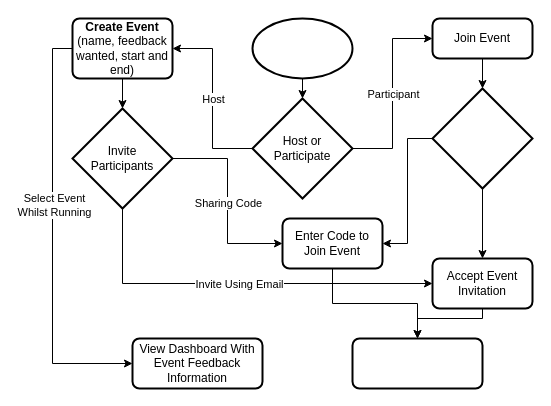
Some shapes in this 551 by 406 pixel diagram are drawn without their labels. The box of each missing label's shape, as (x1, y1, x2, y2) in pixels:
Accept Invitation or Use Code: (431, 87, 533, 189)
Login or Register: (251, 17, 353, 79)
View Fields To Submit Feedback: (351, 337, 483, 389)
